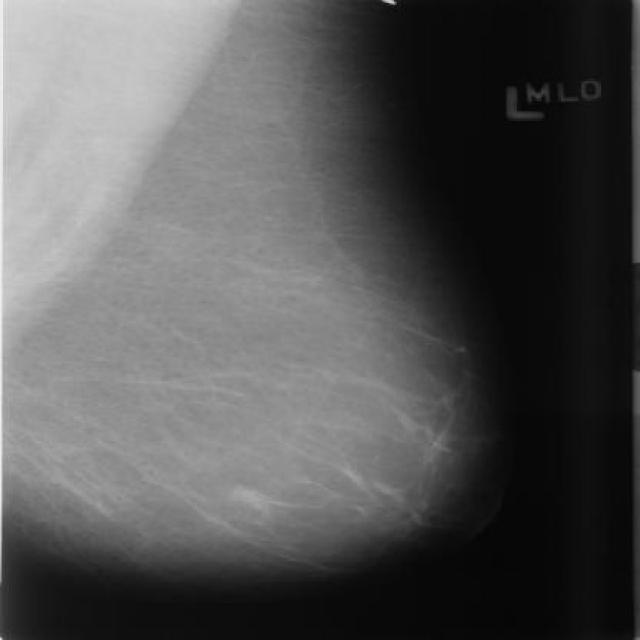tumor: (64, 151, 490, 577)
